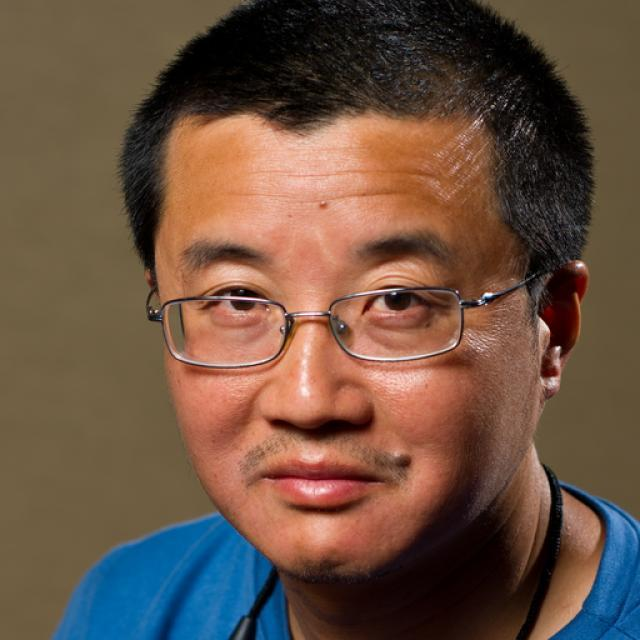content: (162, 94, 540, 586)
